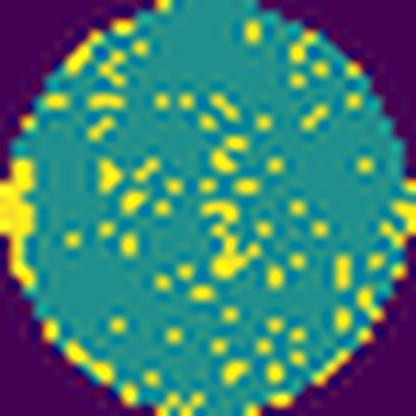Edge-Loc: (0, 152, 45, 294), (379, 200, 416, 251)
